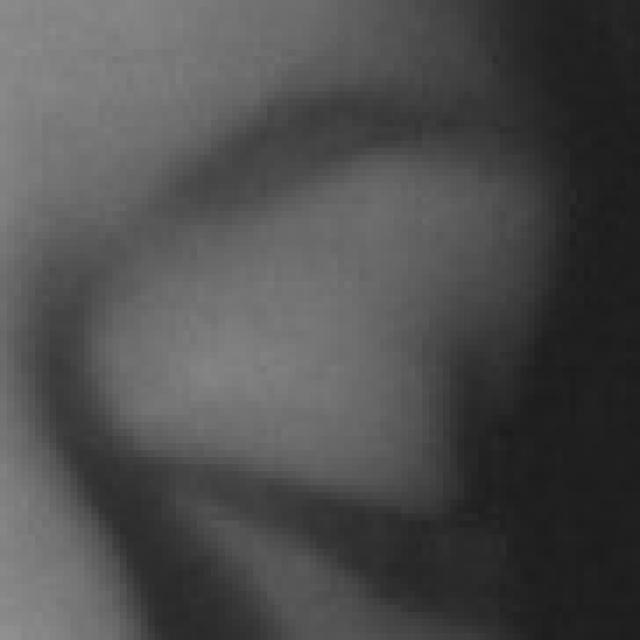Eyeclosed: (149, 264, 481, 640)
